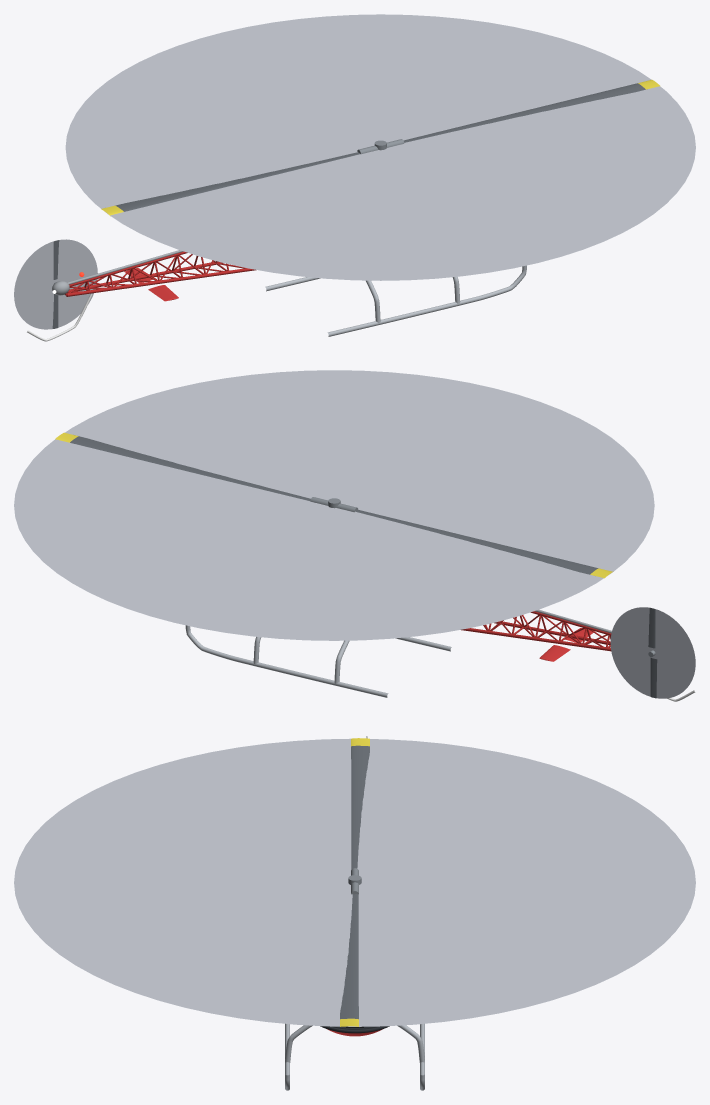
Rendered from lheli.glb.
3 views of the same model, one above another, from view 1: azimuth 30°, elevation 25°; view 2: azimuth 150°, elevation 25°; view 3: azimuth 270°, elevation 25° (orthographic). The views are drawn at different scales.
Parts seen in each view (by area): view 1: mr_blur, tr_blur, mr_blades, tail_boom, skid_r; view 2: mr_blur, tr_blur, mr_blades, tail_boom, skid_l, tr_blades; view 3: mr_blur, mr_blades, cross_tube_front.
Boxes of the visible parts, box(x1,y1,x2,y2) form: mr_blur: box(65, 14, 695, 280); tr_blur: box(14, 239, 97, 329); mr_blades: box(115, 83, 645, 211); tail_boom: box(64, 251, 256, 296); skid_r: box(327, 265, 526, 336); mr_blur: box(14, 370, 654, 640); tr_blur: box(610, 607, 695, 698); mr_blades: box(70, 436, 598, 574); tail_boom: box(461, 611, 611, 651); skid_l: box(185, 625, 388, 697); tr_blades: box(648, 607, 657, 698); mr_blur: box(14, 738, 695, 1026); mr_blades: box(340, 745, 369, 1019); cross_tube_front: box(285, 1025, 424, 1062).
Size of the model in its own units: 13.15 by 2.99 by 11.32.
